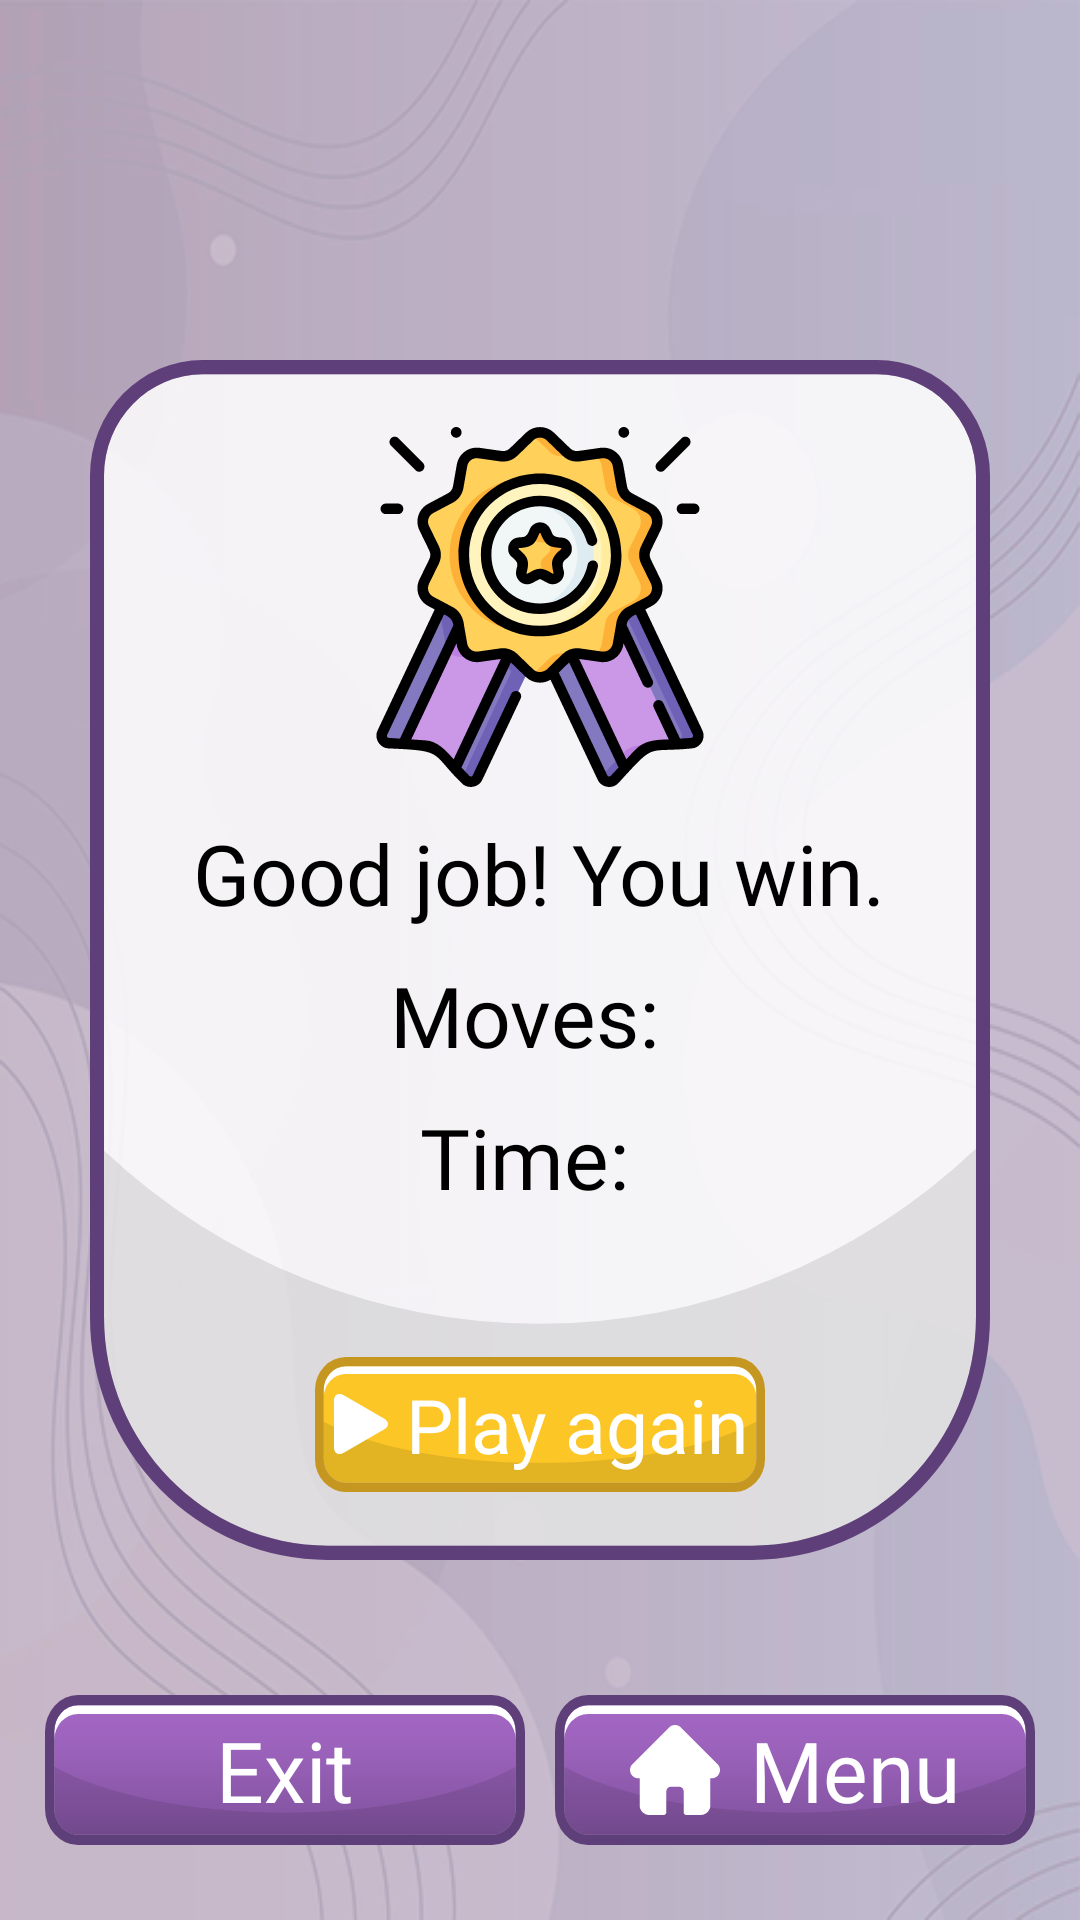

Point at icon controls on the screen. Image size 1080px x 1920px, points as (x=x, y=y).
badge: (x=540, y=607)
home: (x=675, y=1770)
